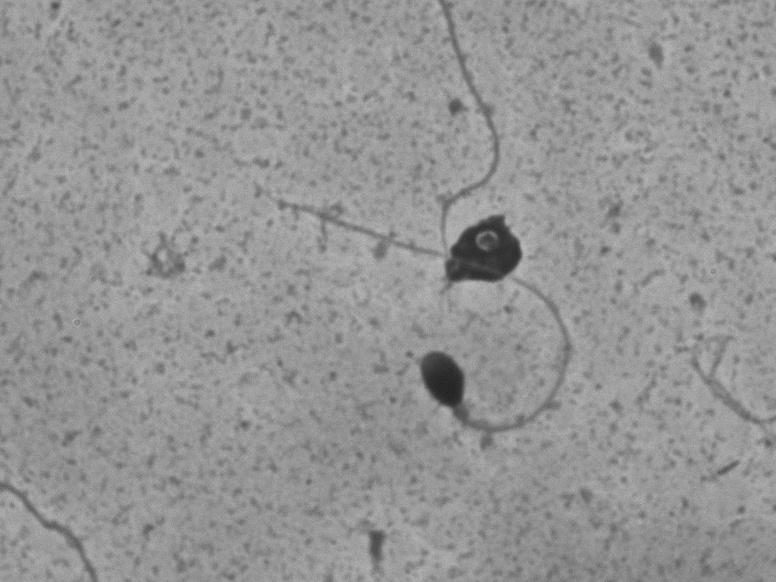Normal: (240, 179, 586, 439)
